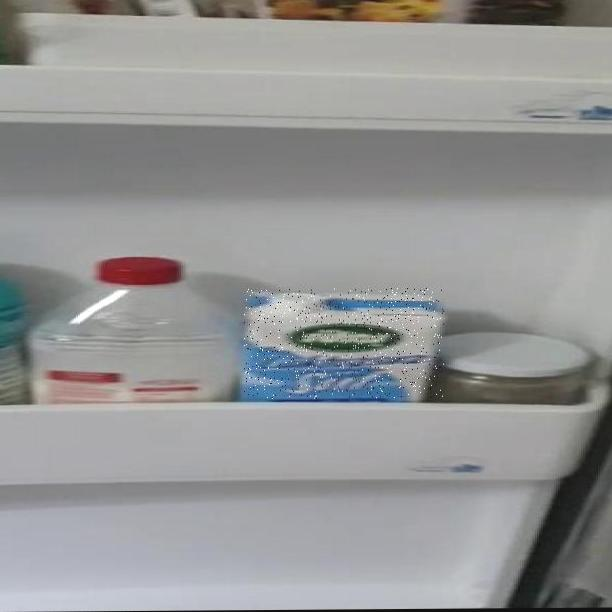milk: (244, 288, 444, 399)
